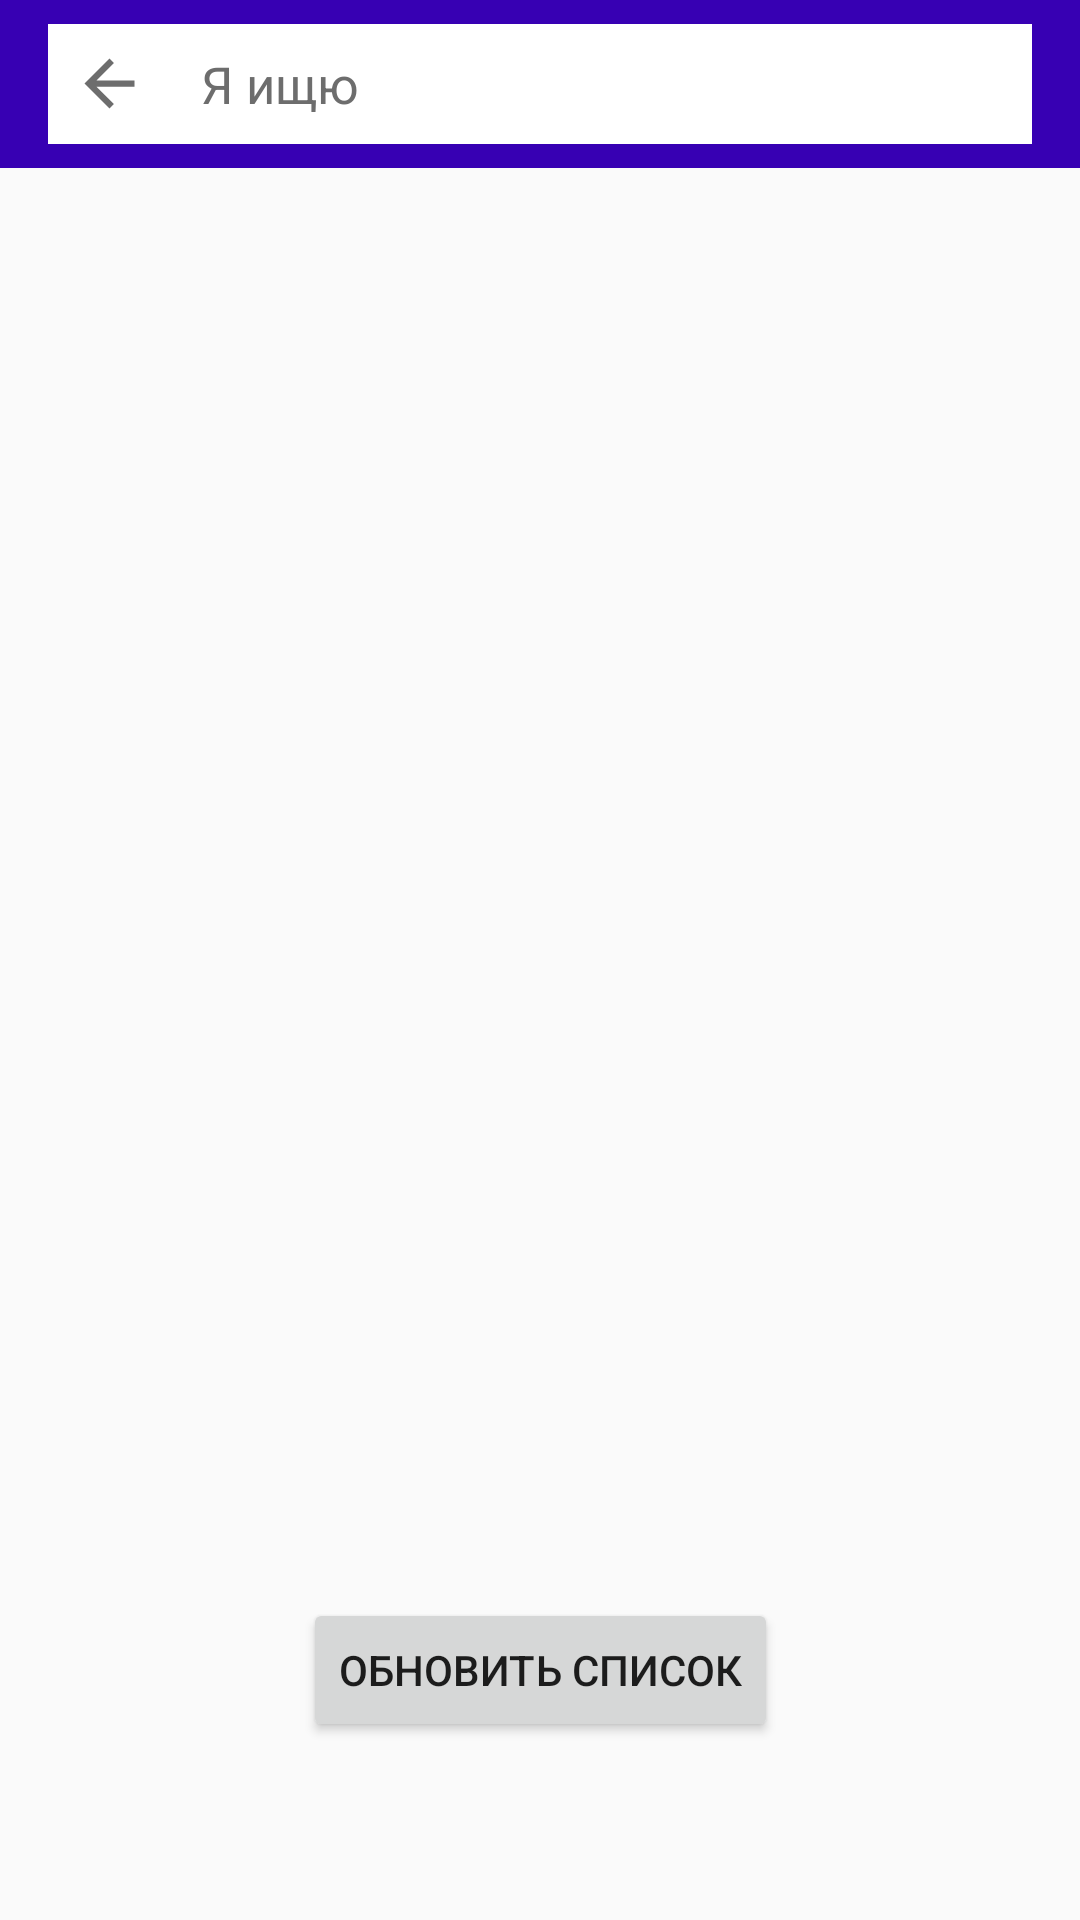

Screen size 1080x1920. Icon name, then its box in pixels as Rect(x1, y1, x2, y2):
arrow: Rect(84, 58, 135, 109)
